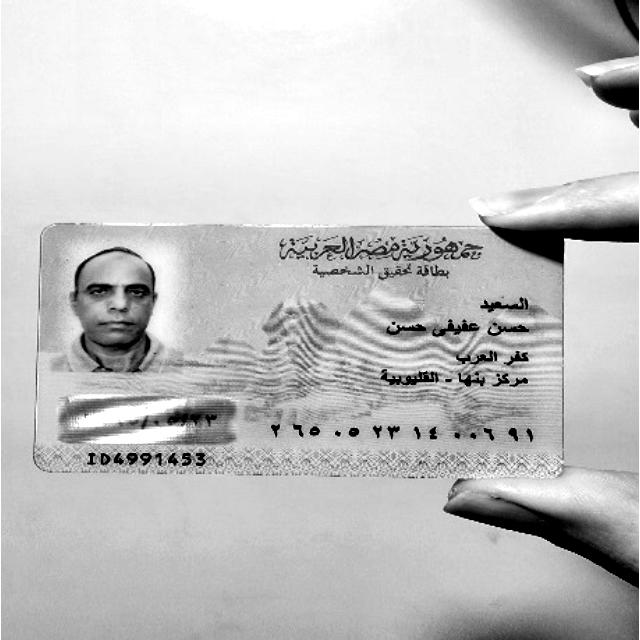id_card: (34, 223, 563, 477)
